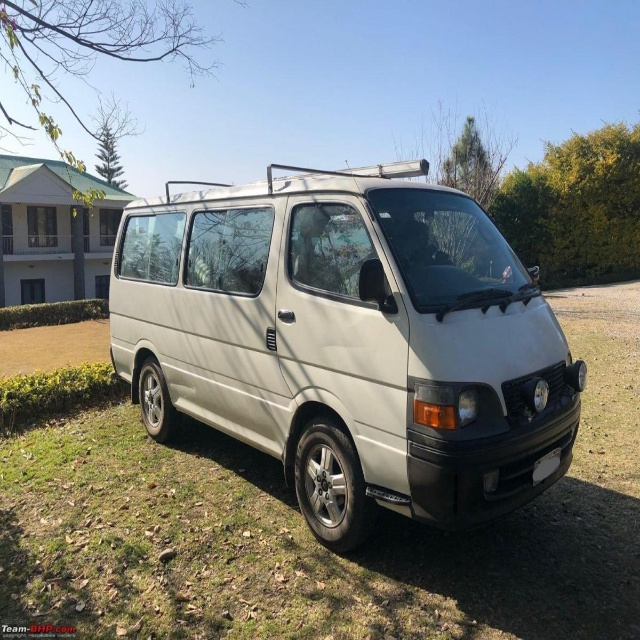Van: (108, 174, 582, 553)
